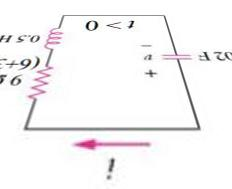inductor: (39, 24, 66, 51)
